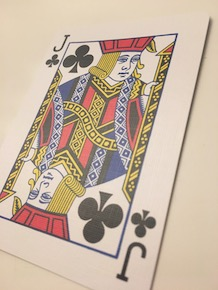JackOfClubs: (1, 9, 212, 290)
